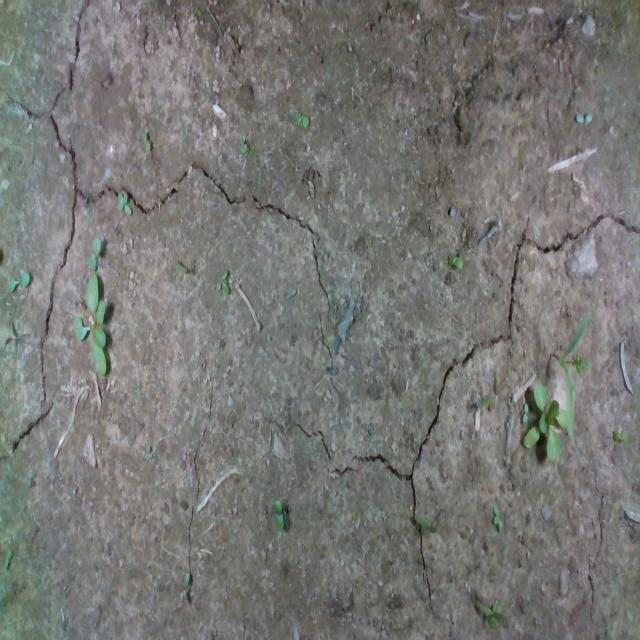weed: (4, 265, 36, 298), (270, 497, 292, 533), (490, 499, 510, 536), (572, 107, 600, 133), (116, 188, 136, 220), (211, 264, 233, 293), (610, 424, 632, 452), (447, 250, 469, 274), (291, 108, 312, 129), (138, 127, 152, 156)
